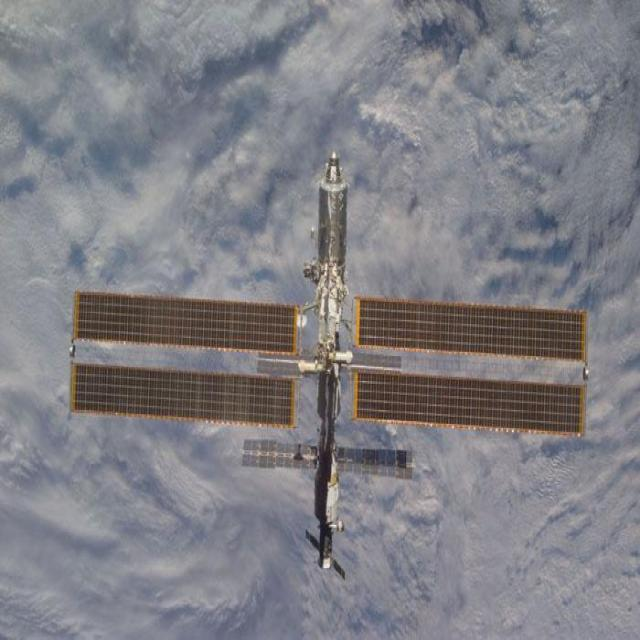medium_debris: (55, 139, 605, 600)
